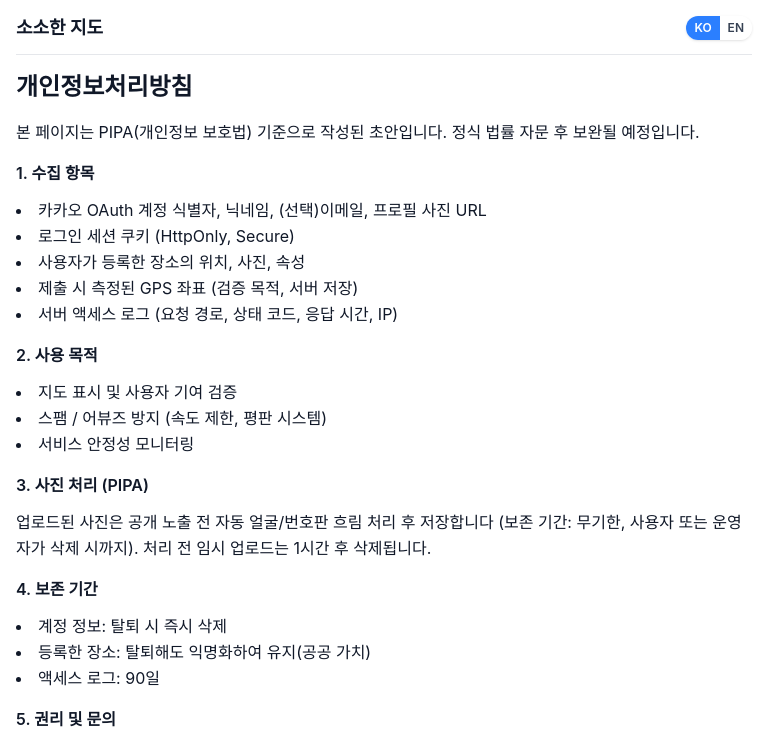
Test: PrivacyPage › flips to English headers
Click the radio button with test id "language-en" at (736, 28), box [720,16,752,40]
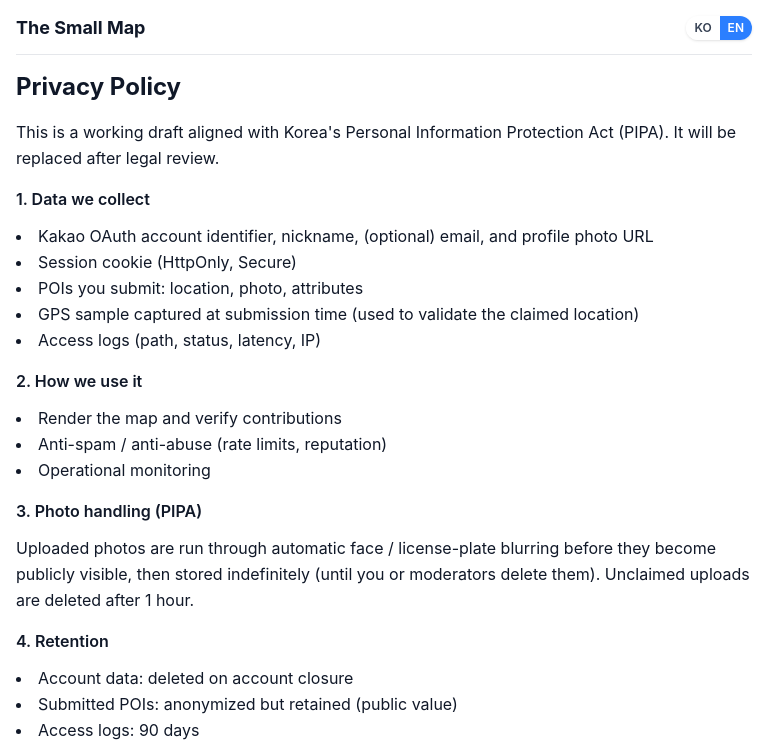
Expected: the heading "1. Data we collect" is shown, [16,189,150,209]
